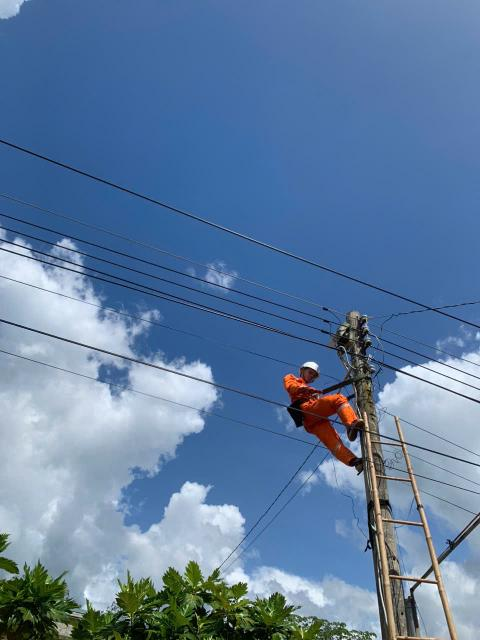harness: (284, 394, 330, 408)
helmet: (298, 361, 329, 377)
shoes: (346, 449, 375, 477), (342, 417, 367, 441)
